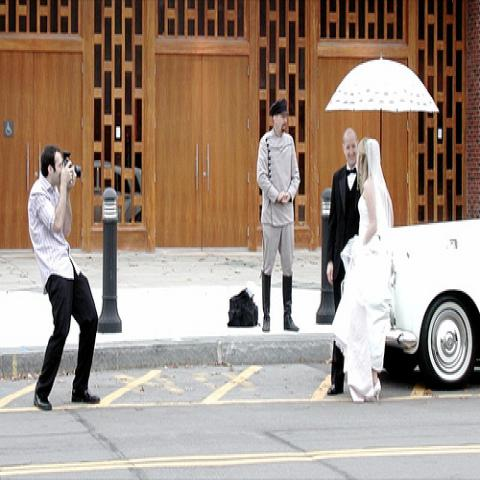car: (385, 215, 479, 388)
